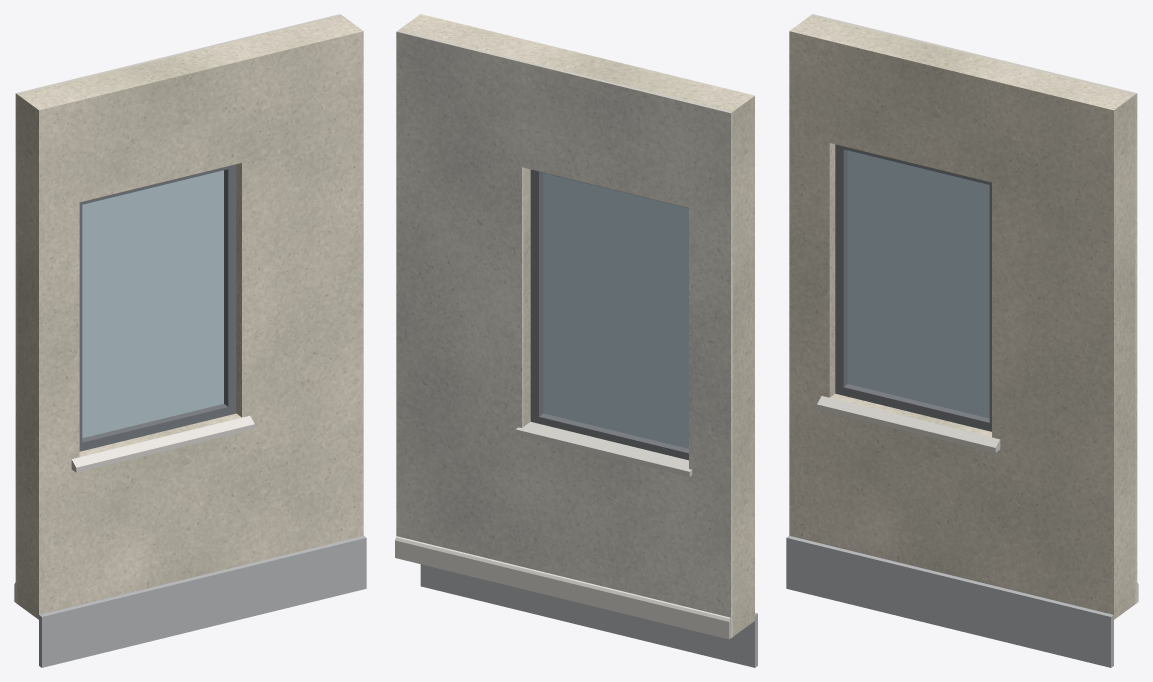
File: t_cwin_r.glb
3 renders of one model, left to right at view 1: azimuth 30°, elevation 25°; view 2: azimuth 150°, elevation 25°; view 3: azimuth 330°, elevation 25°, orthographic. The views are drawn at different scales.
Parts seen in each view (by area): view 1: t_cwin_r_render, t_cwin_r_glass, t_cwin_r_band, t_cwin_r_frame, t_cwin_r_cill, t_cwin_r_plaster; view 2: t_cwin_r_plaster, t_cwin_r_glass, t_cwin_r_render, t_cwin_r_band, t_cwin_r_trim, t_cwin_r_frame, t_cwin_r_cill; view 3: t_cwin_r_render, t_cwin_r_glass, t_cwin_r_band, t_cwin_r_frame, t_cwin_r_cill, t_cwin_r_plaster.
Boxes of the visible parts, x1,y1,x2,y2 form: t_cwin_r_render: (17, 15, 363, 619); t_cwin_r_glass: (82, 170, 223, 438); t_cwin_r_band: (39, 535, 366, 667); t_cwin_r_frame: (79, 164, 236, 451); t_cwin_r_cill: (71, 415, 254, 472); t_cwin_r_plaster: (15, 14, 341, 603); t_cwin_r_plaster: (396, 30, 732, 637); t_cwin_r_glass: (543, 173, 688, 448); t_cwin_r_render: (398, 14, 754, 636); t_cwin_r_band: (420, 564, 757, 667); t_cwin_r_trim: (395, 536, 730, 639); t_cwin_r_frame: (530, 169, 688, 460); t_cwin_r_cill: (515, 421, 692, 476); t_cwin_r_render: (789, 15, 1135, 619); t_cwin_r_glass: (848, 150, 989, 418); t_cwin_r_band: (786, 535, 1113, 667); t_cwin_r_frame: (835, 144, 991, 431); t_cwin_r_cill: (817, 396, 1000, 452); t_cwin_r_plaster: (811, 14, 1137, 603).
Size of the model in its own units: 2 by 3.27 by 0.33.
7 materials, 2 textured.
